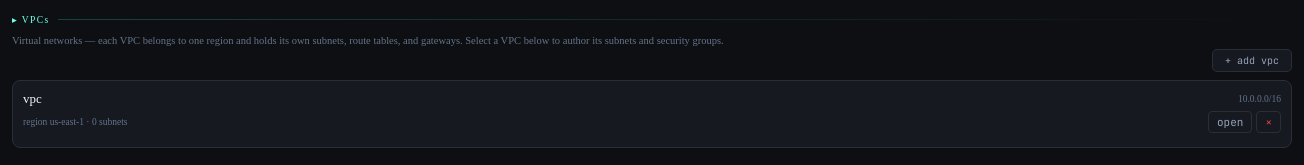
Test: NetworkPanel › removing a VPC removes it from the list
Click the button "×". click: (1269, 122)
box: [1256, 111, 1281, 133]
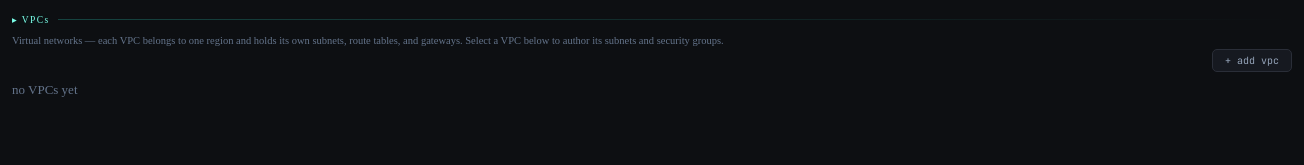
Check: the text "no VPCs yet" is shown, box [12, 82, 78, 97]
